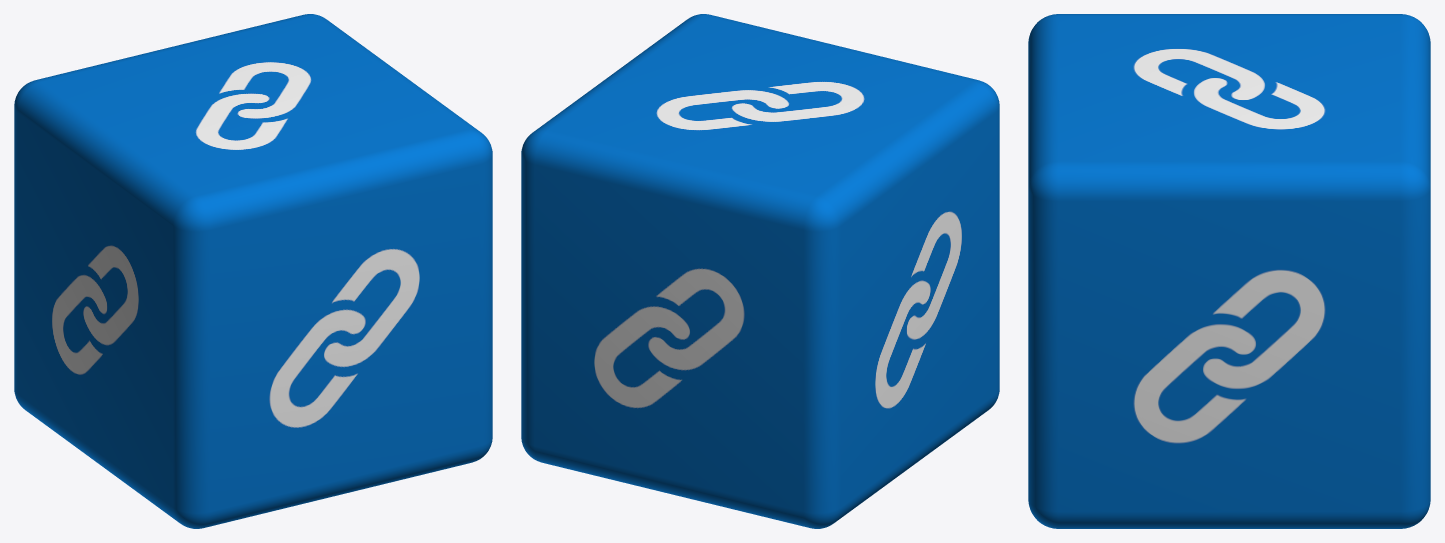
3 renders of one model, left to right at view 1: azimuth 30°, elevation 25°; view 2: azimuth 150°, elevation 25°; view 3: azimuth 270°, elevation 25°, orthographic. The views are drawn at different scales.
Parts seen in each view (by area): view 1: Cube; view 2: Cube; view 3: Cube.
Part boxes in pixels (x1,y1,x2,y2): Cube: (14, 14, 492, 528); Cube: (521, 14, 999, 528); Cube: (1028, 14, 1430, 528).
Size of the model in its own units: 2 by 2 by 2.
1 material, 1 textured.
